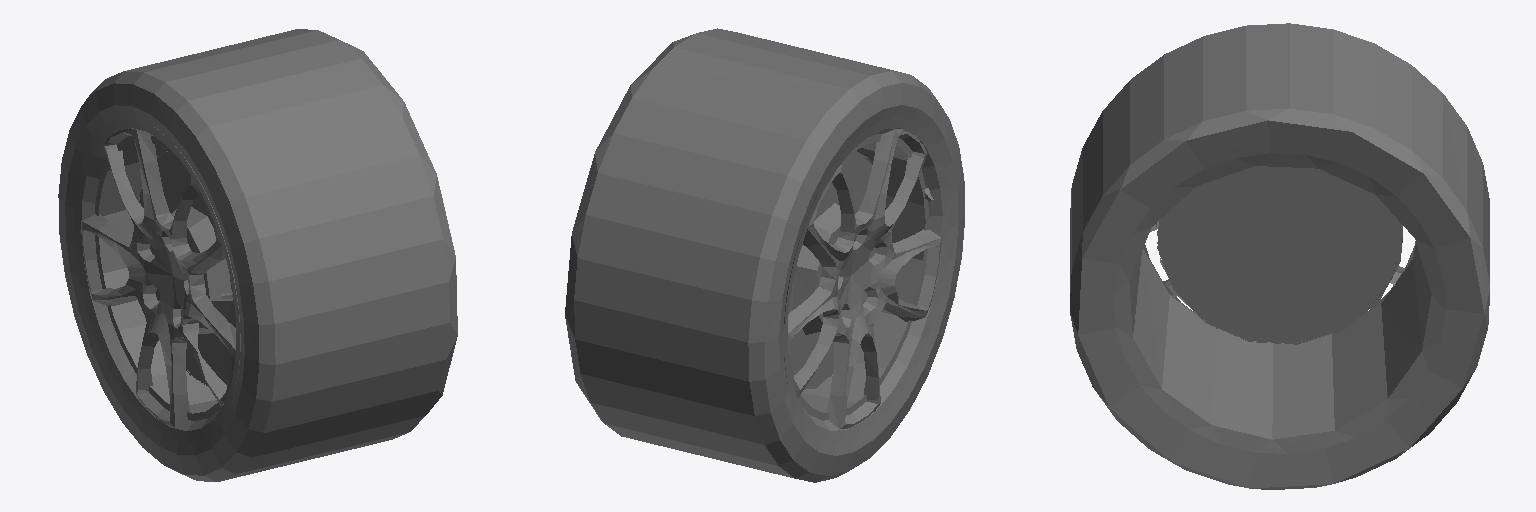
Rendered from llanta_TI.obj.
The picture shows the model from 3 angles: view 1: azimuth 30°, elevation 25°; view 2: azimuth 150°, elevation 25°; view 3: azimuth 270°, elevation 25°; orthographic projection.
Parts seen in each view (by area): view 1: part_025; view 2: part_025; view 3: part_025.
Part boxes in pixels (left/top/right/bottom): part_025: left=58, top=29, right=457, bottom=481; part_025: left=565, top=28, right=964, bottom=482; part_025: left=1070, top=23, right=1489, bottom=489.
Size of the model in its own units: 0.3662 by 0.6609 by 0.66.